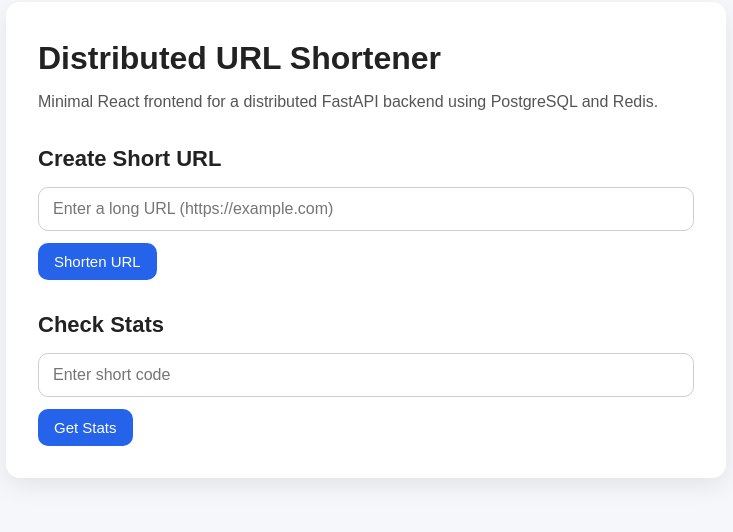
it: App › surfaces backend error details
Type "https://example.com" into the field with placeholder "Enter a long URL (https://example.com)" at (366, 209), box [38,187,694,231]
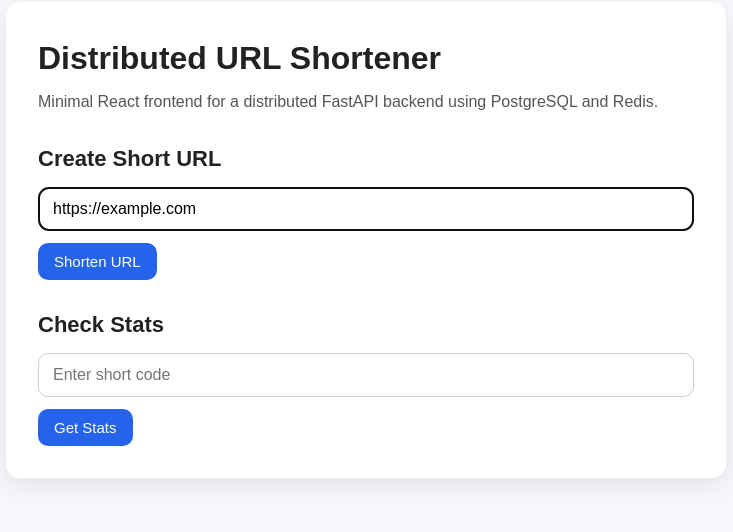
Click the button "Shorten URL" at (97, 262), box [38,243,157,280]
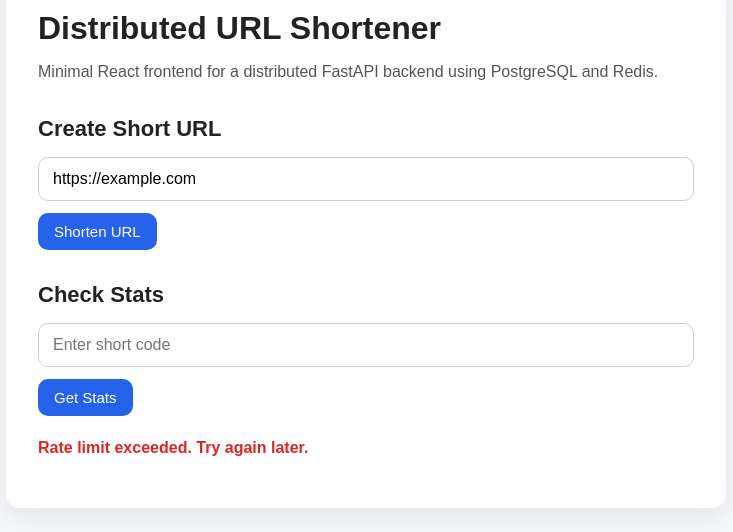
Result: the text "Rate limit exceeded. Try again later." is shown at [38,439,308,456]
